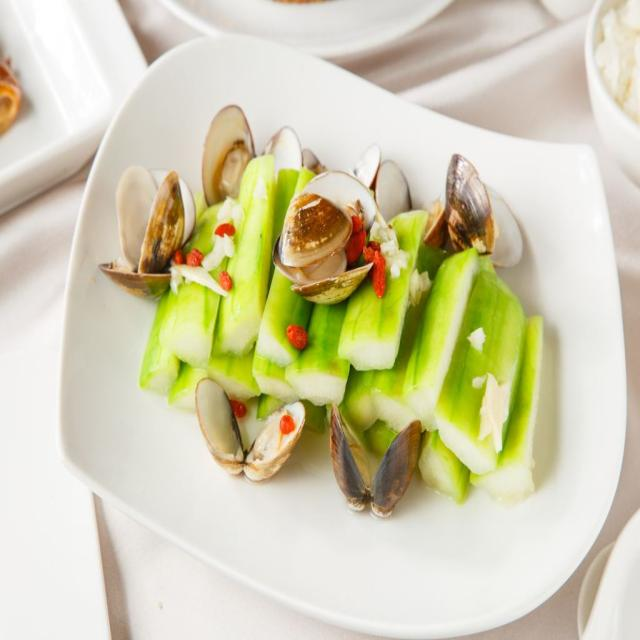Wet: (119, 97, 524, 474)
